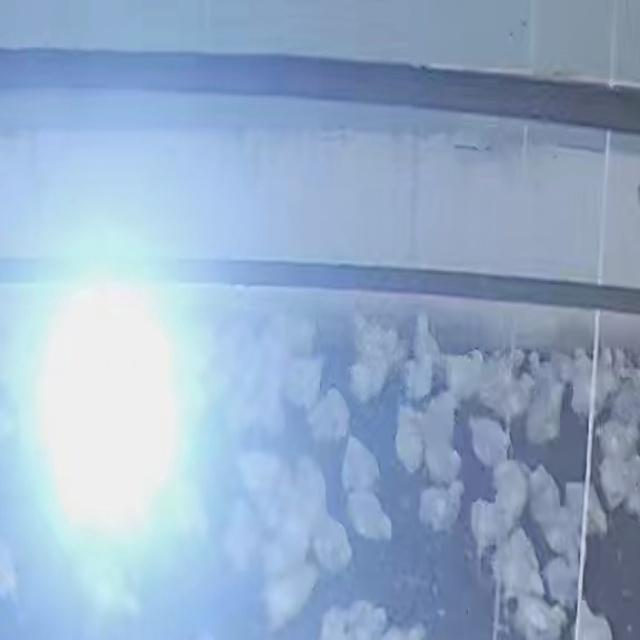chicken: (256, 564, 322, 628), (463, 493, 509, 551), (313, 512, 355, 572), (337, 435, 381, 492), (511, 593, 564, 640), (564, 478, 608, 532), (350, 489, 393, 544), (527, 460, 565, 522), (492, 457, 527, 521), (419, 482, 466, 529), (528, 386, 566, 439), (311, 390, 351, 440), (287, 352, 324, 406), (392, 418, 426, 474), (466, 417, 505, 464), (401, 350, 437, 399), (424, 393, 460, 442), (568, 599, 611, 640), (410, 312, 442, 365), (348, 357, 391, 394)
